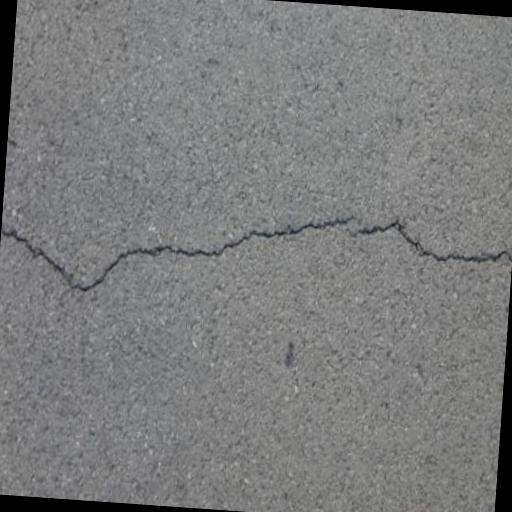spalling: (10, 196, 502, 312)
